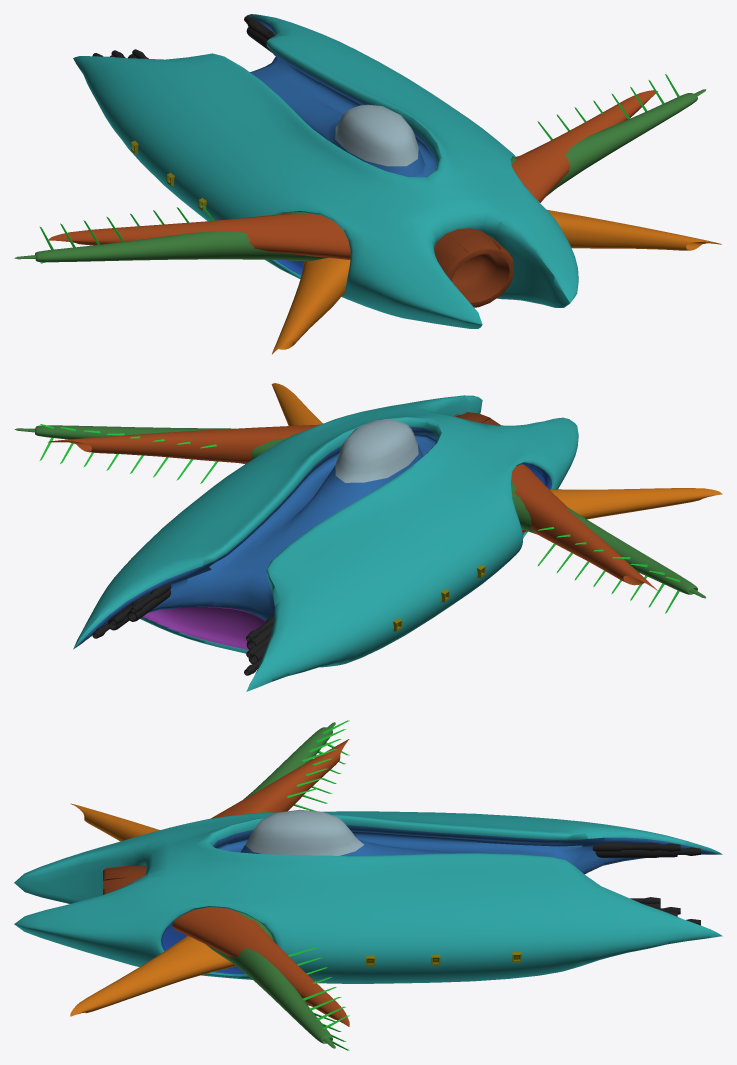
File: bomber_hyperion_1.fbx
3 renders of one model, top to bottom at view 1: azimuth 30°, elevation 25°; view 2: azimuth 150°, elevation 25°; view 3: azimuth 270°, elevation 25°, orthographic. The views are drawn at different scales.
Visible parts, largest first — view 1: Mesh Object_ncl1_1, Mesh Object_ncl1_3, Mesh Object_ncl1_5, Mesh Object_ncl1_4, Mesh Object_ncl1_7; view 2: Mesh Object_ncl1_1, Mesh Object_ncl1_3, Mesh Object_ncl1_5, Mesh Object_ncl1_4, Mesh Object_ncl1_8, Mesh Object; view 3: Mesh Object_ncl1_1, Mesh Object_ncl1_3, Mesh Object_ncl1_5, Mesh Object_ncl1_4, Mesh Object_ncl1_8, Mesh Object_ncl1_7, Mesh Object.
Part boxes in pixels (<box>): Mesh Object_ncl1_1: <box>73,14,578,328</box>; Mesh Object_ncl1_3: <box>48,90,657,259</box>; Mesh Object_ncl1_5: <box>14,74,706,263</box>; Mesh Object_ncl1_4: <box>272,210,721,354</box>; Mesh Object_ncl1_7: <box>434,228,513,307</box>; Mesh Object_ncl1_1: <box>73,395,578,691</box>; Mesh Object_ncl1_3: <box>48,424,657,590</box>; Mesh Object_ncl1_5: <box>14,424,705,613</box>; Mesh Object_ncl1_4: <box>271,383,722,532</box>; Mesh Object_ncl1_8: <box>92,584,274,675</box>; Mesh Object: <box>107,590,272,664</box>; Mesh Object_ncl1_1: <box>14,809,722,983</box>; Mesh Object_ncl1_3: <box>172,739,349,1026</box>; Mesh Object_ncl1_5: <box>206,720,349,1050</box>; Mesh Object_ncl1_4: <box>70,803,235,1016</box>; Mesh Object_ncl1_8: <box>592,842,700,925</box>; Mesh Object_ncl1_7: <box>103,865,146,894</box>; Mesh Object: <box>595,850,677,916</box>.
Bounding box in the file's own units: 24.57 × 4.9 × 22.55.
